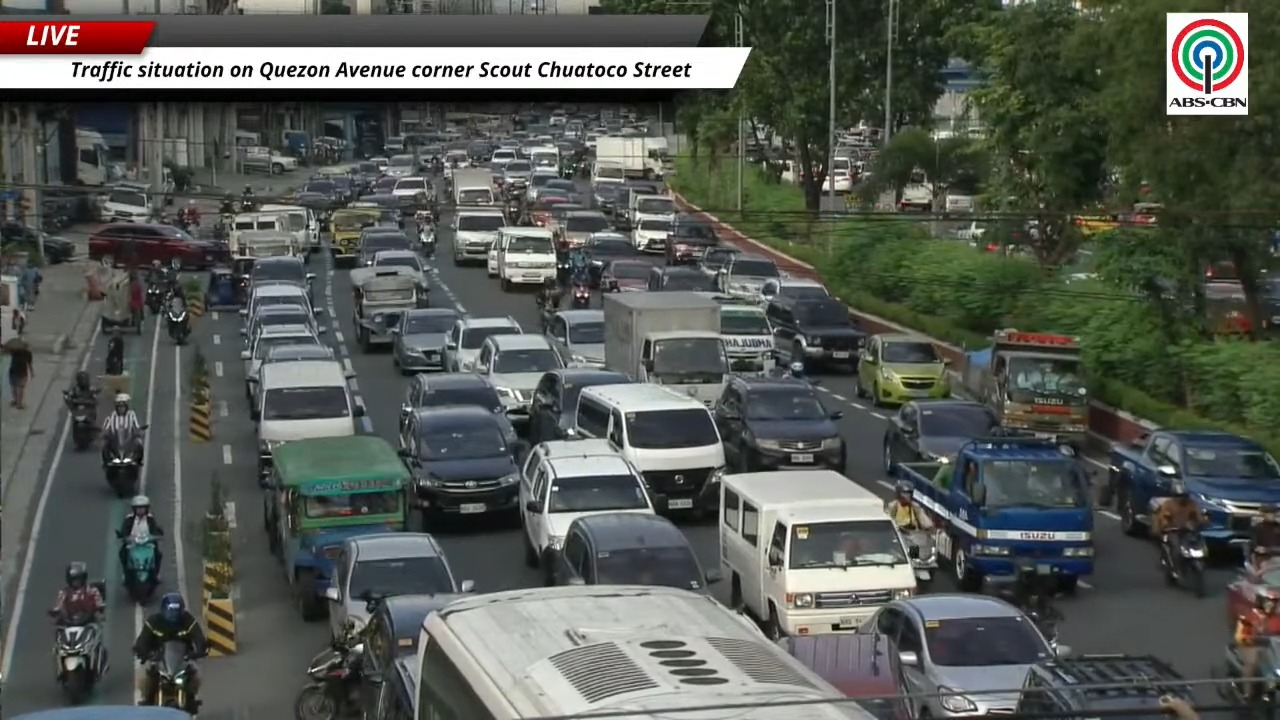bus: (415, 585, 872, 719)
car: (859, 594, 1057, 717), (516, 440, 655, 584), (325, 532, 473, 639), (399, 406, 522, 526), (551, 512, 721, 593), (359, 594, 462, 719), (713, 376, 846, 472), (1014, 654, 1196, 719), (778, 633, 909, 719), (883, 399, 998, 471), (475, 334, 565, 423), (527, 367, 630, 443), (766, 298, 865, 369), (855, 333, 950, 405), (89, 222, 228, 269), (240, 325, 321, 400), (398, 373, 502, 428), (445, 316, 522, 372), (392, 308, 458, 373), (1225, 559, 1279, 630), (241, 304, 326, 344), (546, 309, 604, 367), (369, 249, 429, 303), (239, 282, 321, 320), (0, 222, 74, 264), (249, 256, 315, 302), (583, 231, 637, 287), (716, 253, 780, 300), (664, 213, 719, 265), (357, 226, 410, 266), (552, 210, 610, 246), (528, 192, 579, 227), (647, 267, 714, 292), (600, 259, 651, 291), (512, 166, 559, 200), (761, 277, 829, 300), (262, 343, 334, 364), (631, 215, 670, 253), (697, 245, 742, 276), (503, 158, 533, 194), (391, 176, 428, 205), (299, 179, 339, 202), (540, 178, 579, 196), (371, 176, 397, 194)
motorcycle: (294, 626, 363, 719), (1214, 636, 1279, 716), (55, 616, 105, 705), (1014, 561, 1061, 649), (146, 640, 198, 711), (1161, 524, 1207, 597), (117, 531, 158, 605), (104, 431, 141, 498), (901, 527, 937, 592), (64, 391, 98, 450), (166, 307, 189, 344), (145, 283, 165, 315), (419, 228, 436, 258), (571, 282, 590, 308)
truck: (890, 435, 1094, 591), (1099, 429, 1279, 544), (957, 330, 1089, 450), (603, 292, 728, 406), (706, 293, 775, 372), (596, 137, 647, 177), (238, 146, 298, 174), (452, 168, 496, 205), (644, 137, 672, 178)
